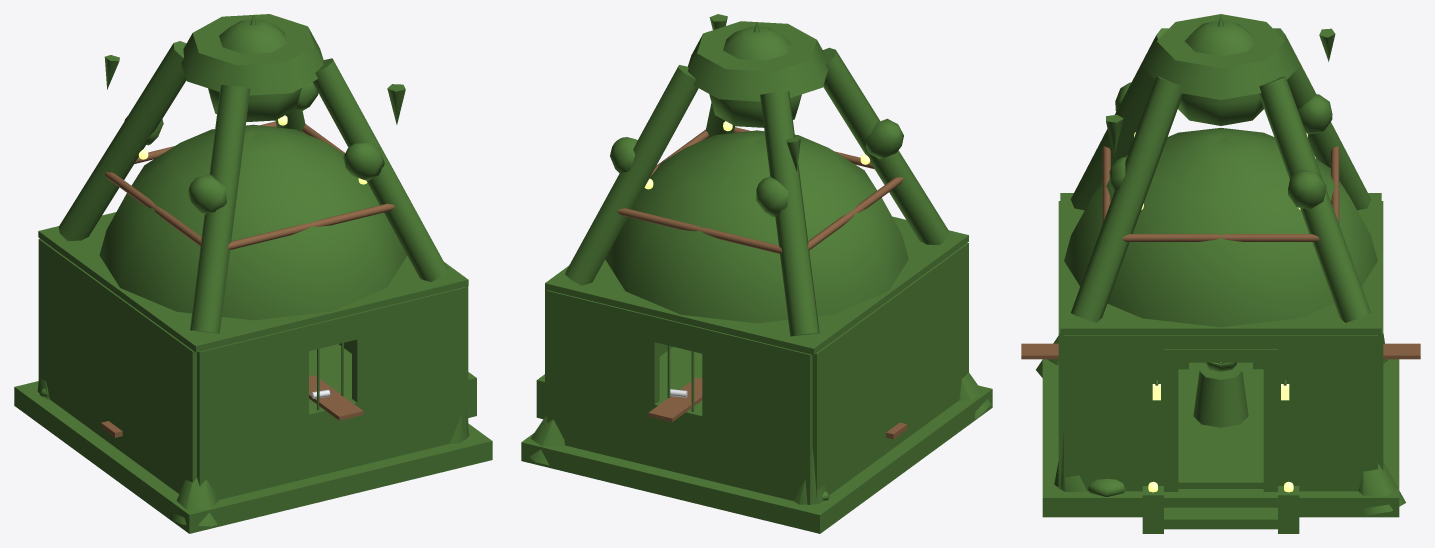
File: shrine-deep-bell.glb
The picture shows the model from 3 angles, left to right: view 1: azimuth 30°, elevation 25°; view 2: azimuth 150°, elevation 25°; view 3: azimuth 270°, elevation 25°; orthographic projection. The views are drawn at different scales.
Visible parts, largest first — view 1: Mesh_Dome, Mesh_Chamber_WallBack, Mesh_Chamber_WallRight_R, Mesh_Chamber_WallRight_L, Mesh_BasePlatform, Mesh_RoofCeiling, Mesh_Collar, Mesh_ButtressC, Mesh_ButtressD, Mesh_ButtressA, Mesh_CentralBell, Mesh_Chamber_WallRight_Sill (+8 smaller); view 2: Mesh_Dome, Mesh_Chamber_WallBack, Mesh_Chamber_WallLeft_L, Mesh_Chamber_WallLeft_R, Mesh_BasePlatform, Mesh_RoofCeiling, Mesh_Collar, Mesh_ButtressD, Mesh_ButtressB, Mesh_ButtressC, Mesh_CentralBell, Mesh_Chamber_WallLeft_Sill (+11 smaller); view 3: Mesh_Dome, Mesh_Chamber_WallFront_L, Mesh_Chamber_WallFront_R, Mesh_BasePlatform, Mesh_RoofCeiling, Mesh_ButtressA, Mesh_Chamber_Floor, Mesh_Collar, Mesh_ButtressB, Mesh_CentralBell, Mesh_ButtressC, Mesh_Pedestal (+22 smaller).
Part boxes in pixels (box(x1,y1,x2,y2)): Mesh_Dome: box(99, 124, 407, 320); Mesh_Chamber_WallBack: box(38, 238, 196, 493); Mesh_Chamber_WallRight_R: box(352, 287, 466, 466); Mesh_Chamber_WallRight_L: box(197, 325, 308, 499); Mesh_BasePlatform: box(14, 381, 492, 533); Mesh_RoofCeiling: box(38, 212, 468, 352); Mesh_Collar: box(181, 14, 323, 95); Mesh_ButtressC: box(190, 85, 250, 333); Mesh_ButtressD: box(59, 41, 186, 240); Mesh_ButtressA: box(312, 58, 447, 281); Mesh_CentralBell: box(208, 19, 301, 121); Mesh_Chamber_WallRight_Sill: box(309, 399, 357, 477); Mesh_Dome: box(605, 130, 908, 323); Mesh_Chamber_WallBack: box(812, 243, 968, 496); Mesh_Chamber_WallLeft_L: box(702, 328, 812, 504); Mesh_Chamber_WallLeft_R: box(547, 290, 659, 466); Mesh_BasePlatform: box(521, 385, 992, 533); Mesh_RoofCeiling: box(545, 216, 968, 354); Mesh_Collar: box(687, 21, 827, 101); Mesh_ButtressD: box(760, 91, 819, 336); Mesh_ButtressB: box(565, 65, 698, 285); Mesh_ButtressC: box(823, 47, 948, 244); Mesh_CentralBell: box(709, 26, 801, 127); Mesh_Chamber_WallLeft_Sill: box(653, 401, 703, 478); Mesh_Dome: box(1064, 128, 1377, 327); Mesh_Chamber_WallFront_L: box(1263, 335, 1377, 491); Mesh_Chamber_WallFront_R: box(1064, 335, 1178, 491); Mesh_BasePlatform: box(1042, 359, 1399, 517); Mesh_RoofCeiling: box(1060, 193, 1381, 335); Mesh_ButtressA: box(1071, 76, 1182, 322); Mesh_Chamber_Floor: box(1178, 362, 1263, 488); Mesh_Collar: box(1142, 14, 1299, 99); Mesh_ButtressB: box(1259, 76, 1370, 322); Mesh_CentralBell: box(1178, 20, 1263, 125); Mesh_ButtressC: box(1070, 28, 1168, 210); Mesh_Pedestal: box(1193, 365, 1248, 427).
Bounding box in the file's own units: 5.6 × 6.68 × 5.6.
Materials: 2 (2 with a texture image).
